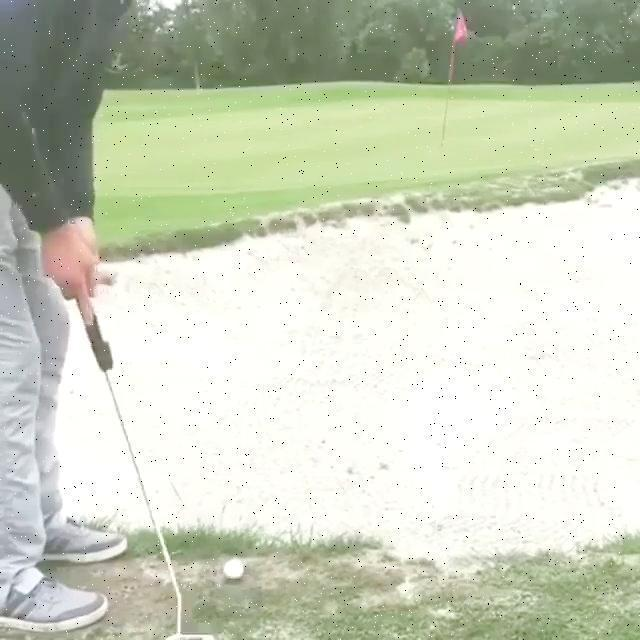ClubHead: (168, 633, 214, 640)
GolfBall: (223, 559, 245, 579)
